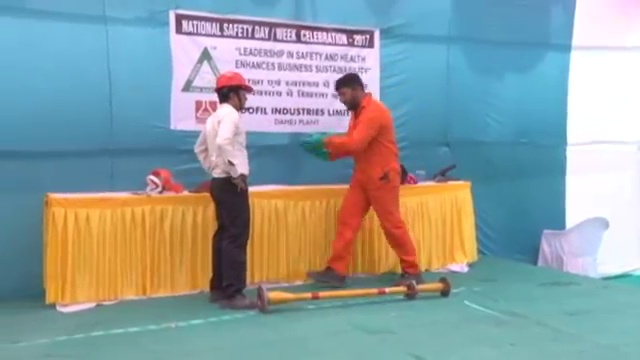helmet: (214, 68, 256, 93)
helmet_off: (334, 73, 365, 111)
helmet_on: (212, 70, 256, 114)
person: (306, 74, 426, 287), (194, 68, 259, 310)
